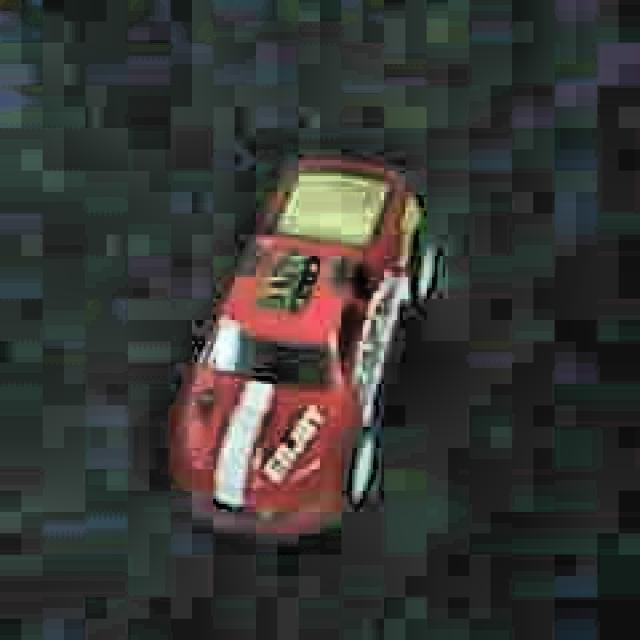car: (164, 145, 444, 553)
